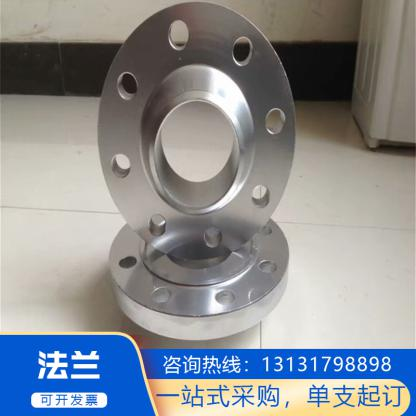FOD: (92, 0, 300, 266), (105, 199, 296, 343)
